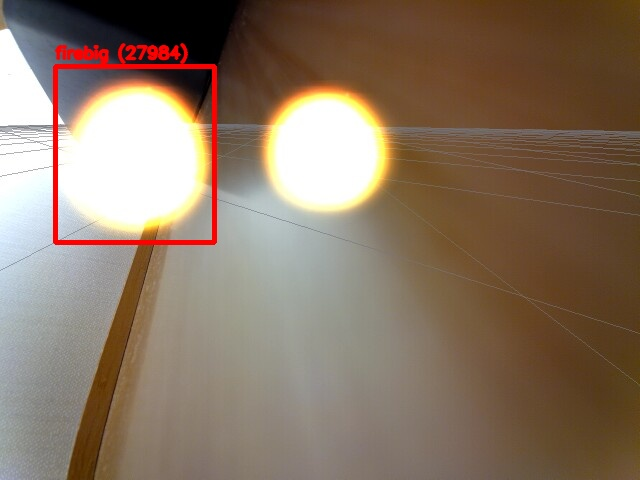firebig: (55, 66, 214, 242)
